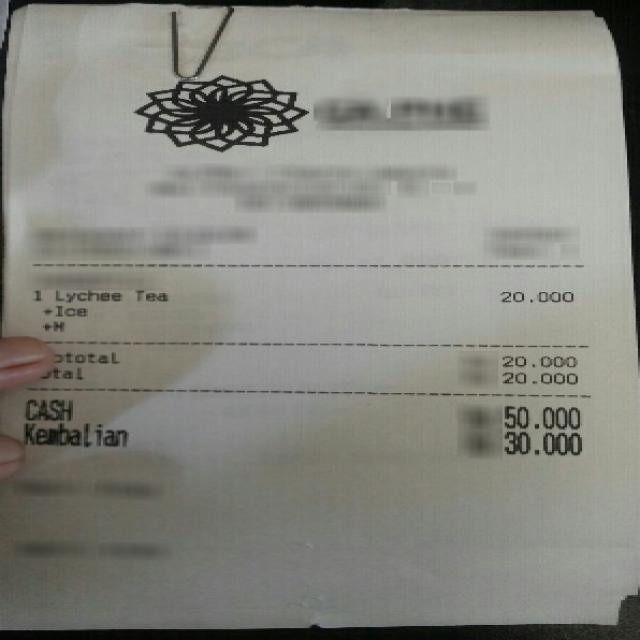text: (19, 421, 127, 445), (498, 405, 578, 428), (500, 430, 576, 454), (50, 347, 118, 364), (22, 398, 68, 421), (501, 370, 574, 382), (54, 288, 118, 300), (501, 354, 574, 364), (496, 290, 567, 300), (34, 366, 84, 380), (36, 302, 82, 314), (134, 288, 166, 300), (41, 319, 60, 329), (28, 288, 41, 300)
